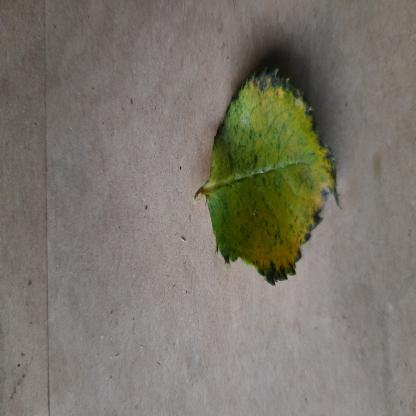downy-mildew: (206, 68, 340, 282)
